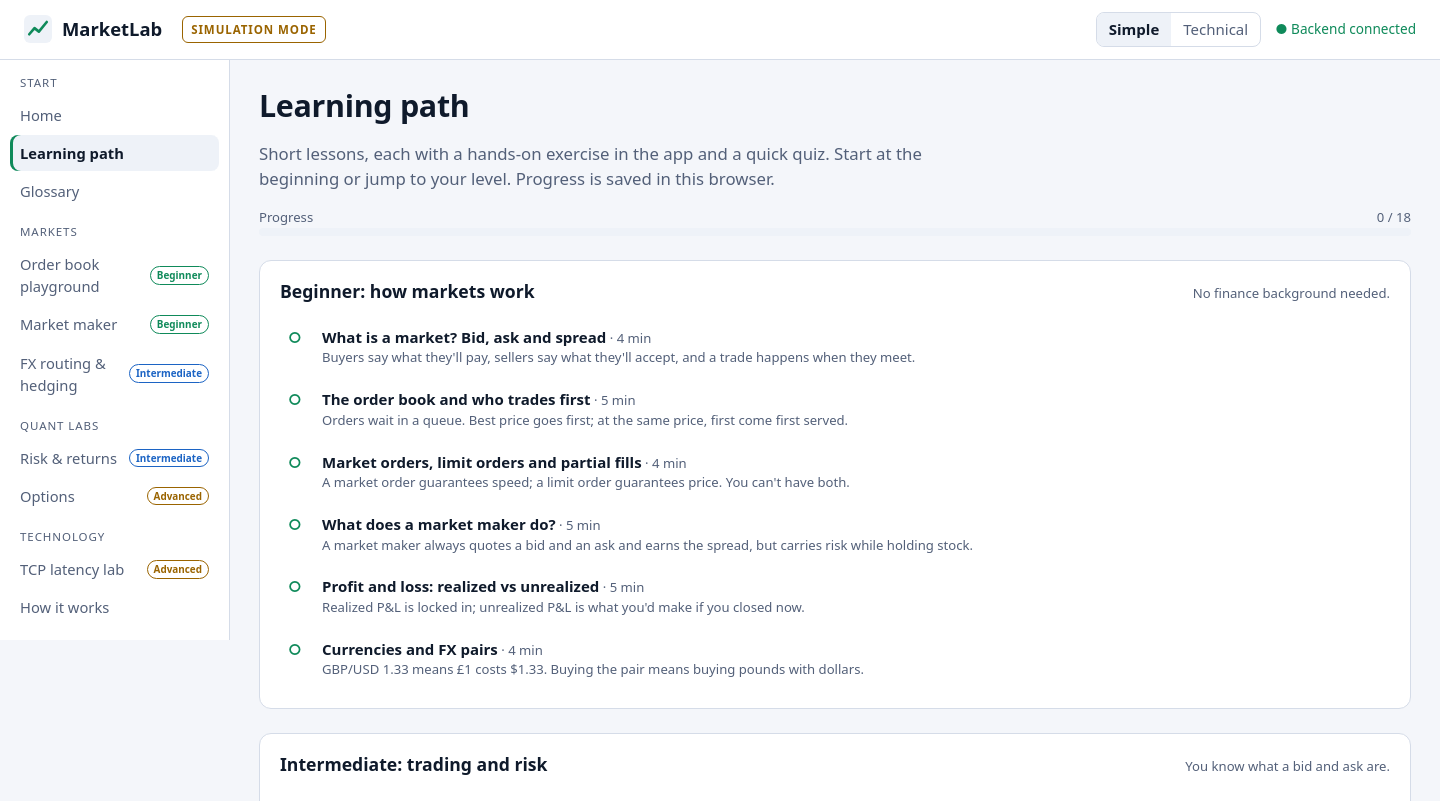
Test: Learn page › lists lessons by level and completes a lesson when the quiz is answered correctly
Expected: the heading "Beginner: how markets work" is shown, [280, 281, 535, 302]
Click the link "What is a market? Bid, ask and spread" at (602, 347), box [288, 327, 915, 366]
(page scrolled)
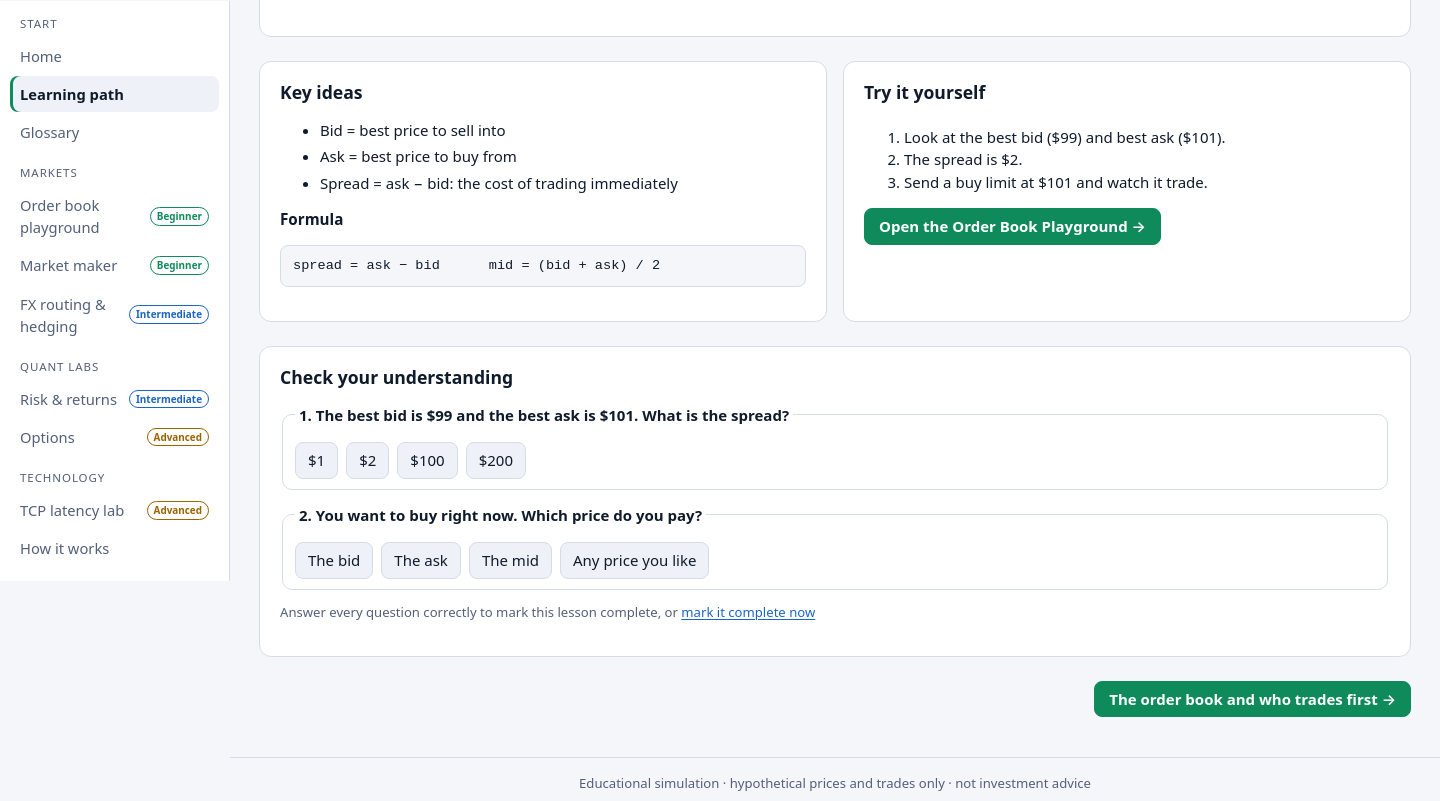
Click the button "$1" at (317, 460), box [295, 442, 338, 479]
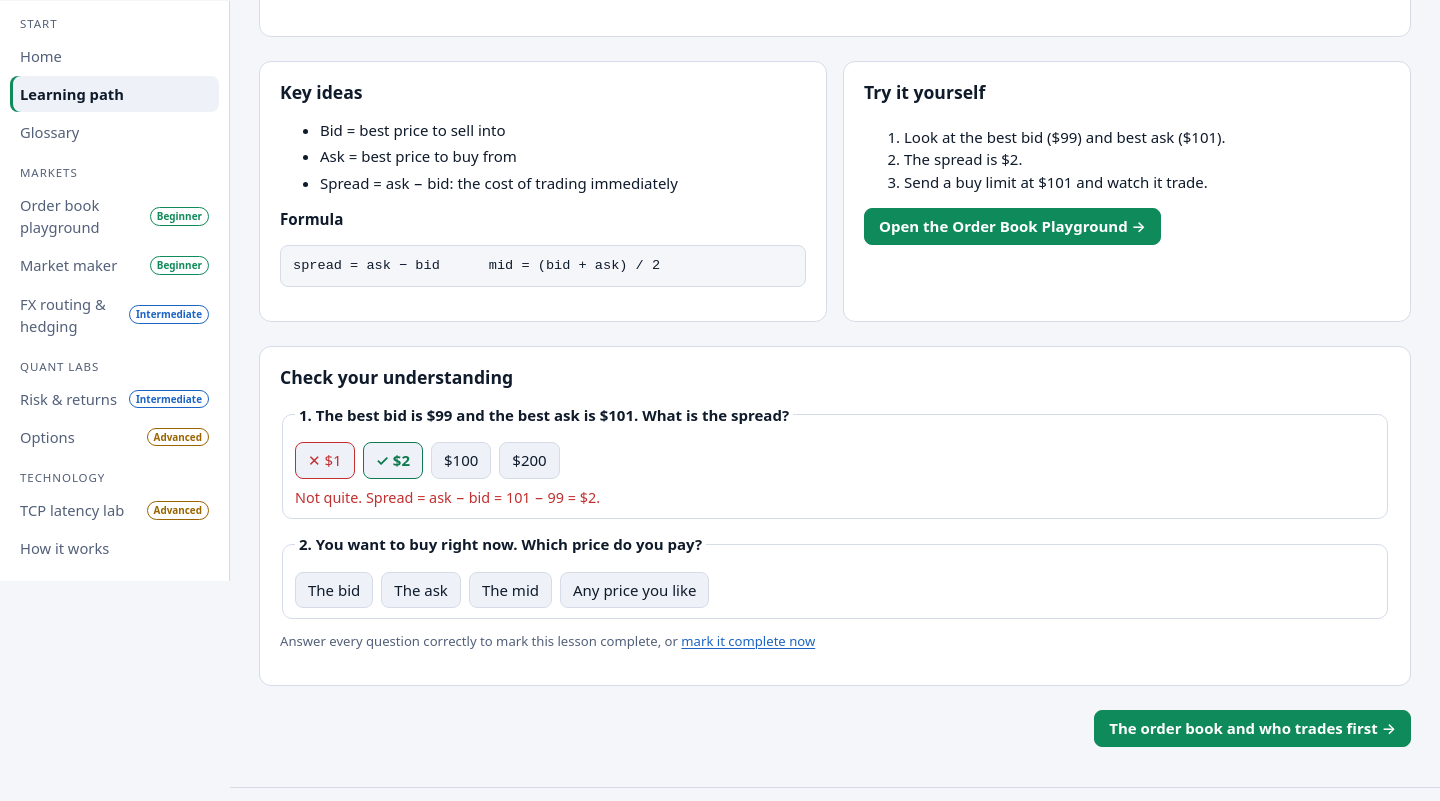
Now the text "Not quite. Spread = ask − bid = 101 − 99 = $2." is shown, box [295, 488, 600, 507]
Click the button "The ask" at (421, 590), box [381, 572, 461, 608]
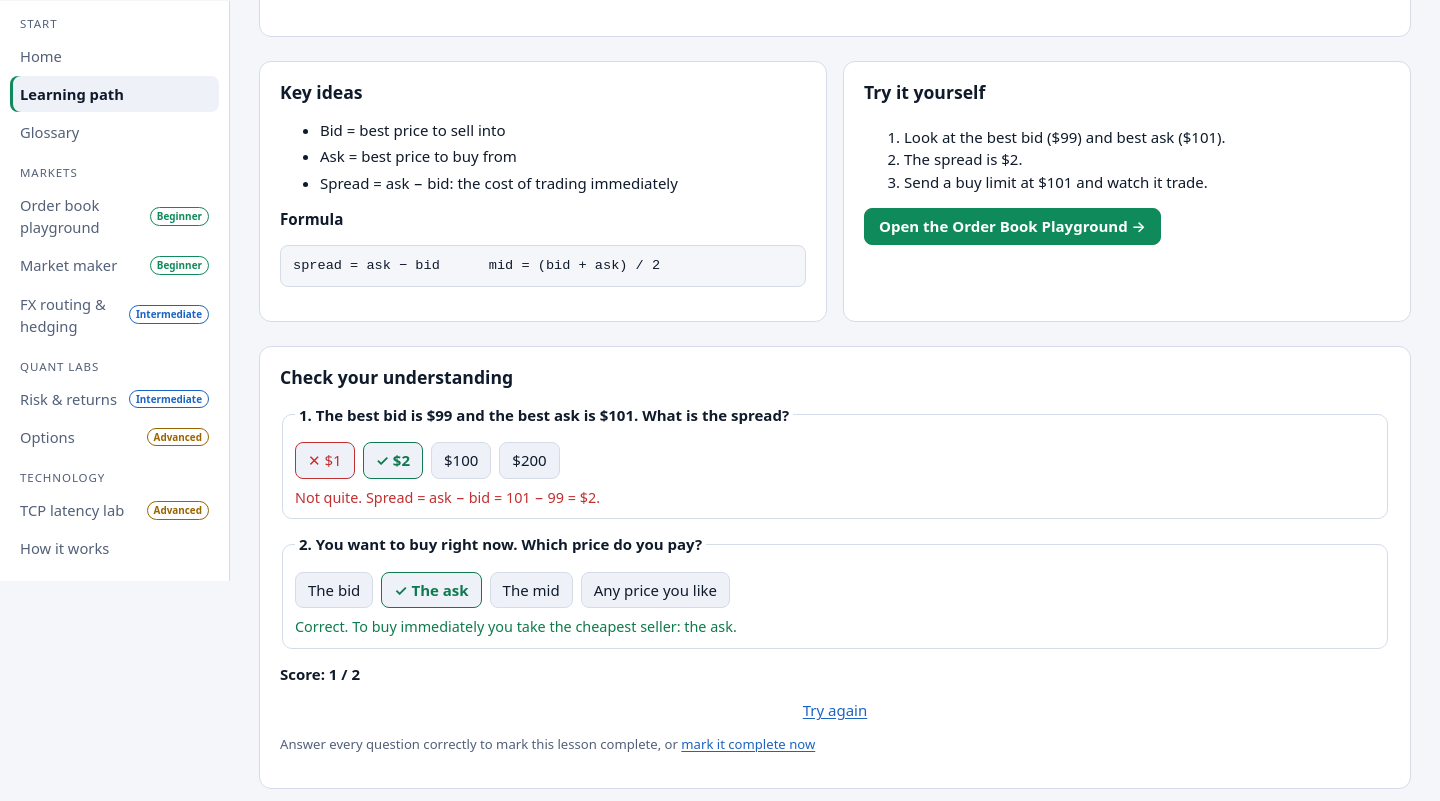
Now the text "Score: 1 / 2" is shown, box [280, 664, 360, 684]
Click the button "Try again" at (835, 711), box [280, 699, 1390, 722]
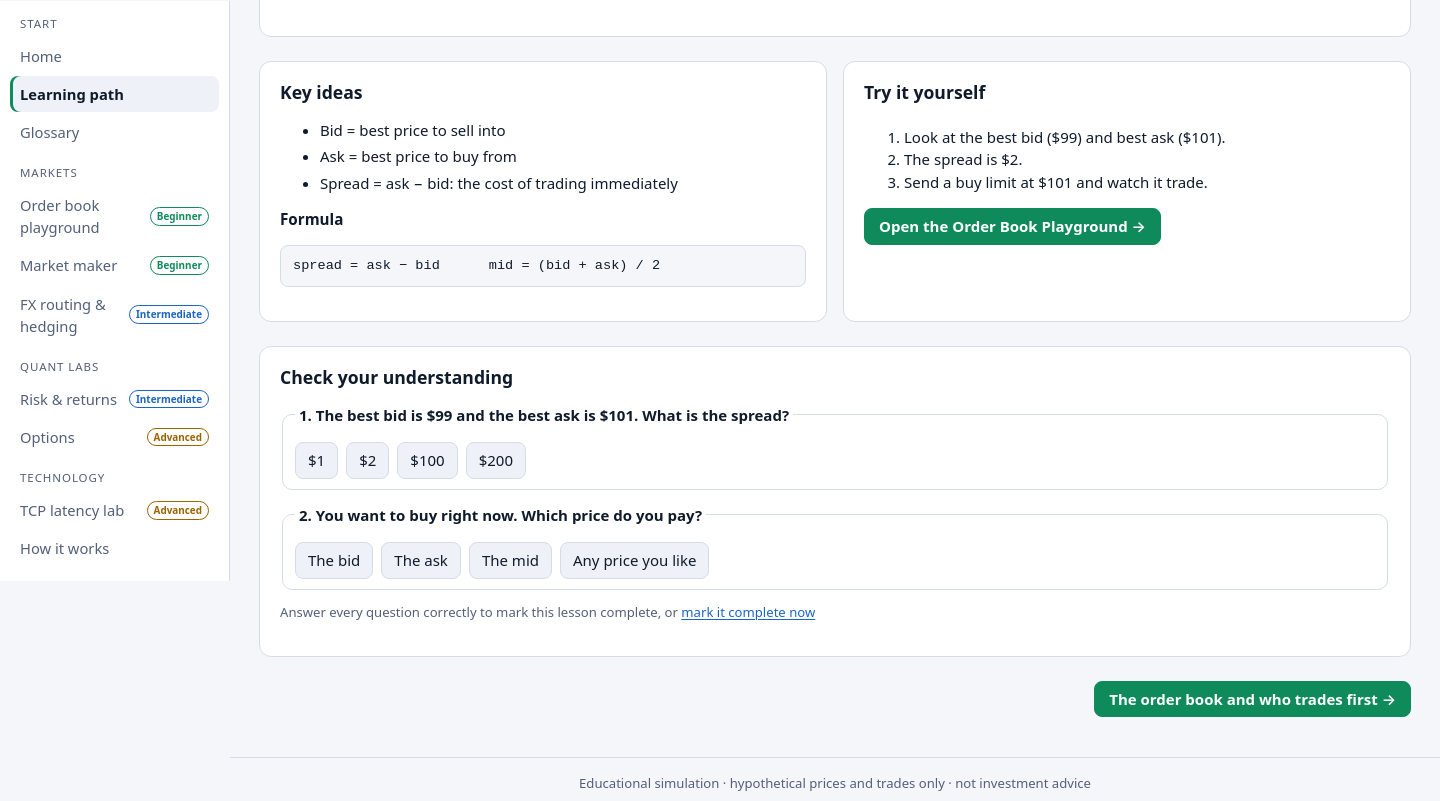
Click the button "$2" at (368, 460), box [346, 442, 389, 479]
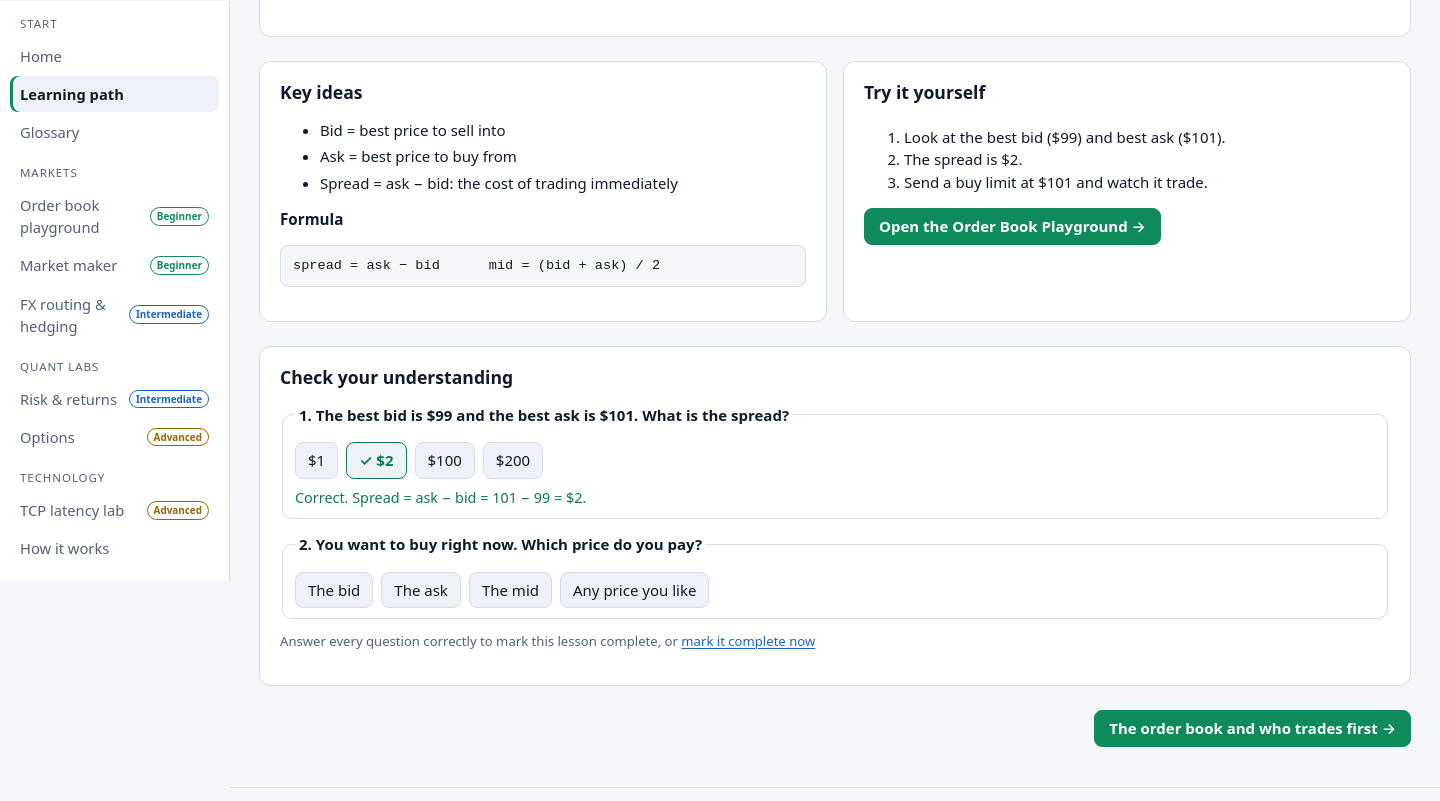
Click the button "The ask" at (421, 590), box [381, 572, 461, 608]
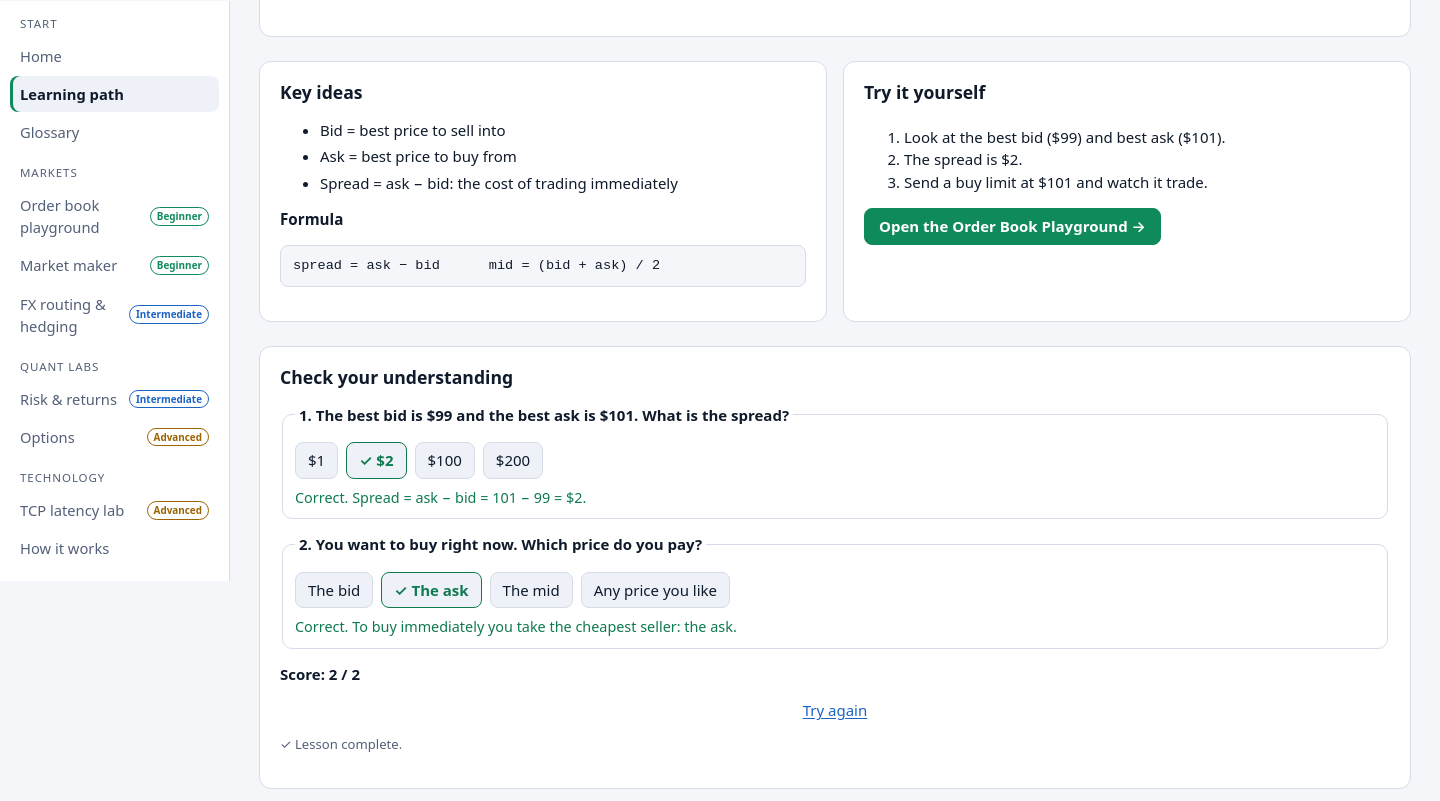
Now the text "✓ Lesson complete." is shown, box [280, 735, 402, 753]
